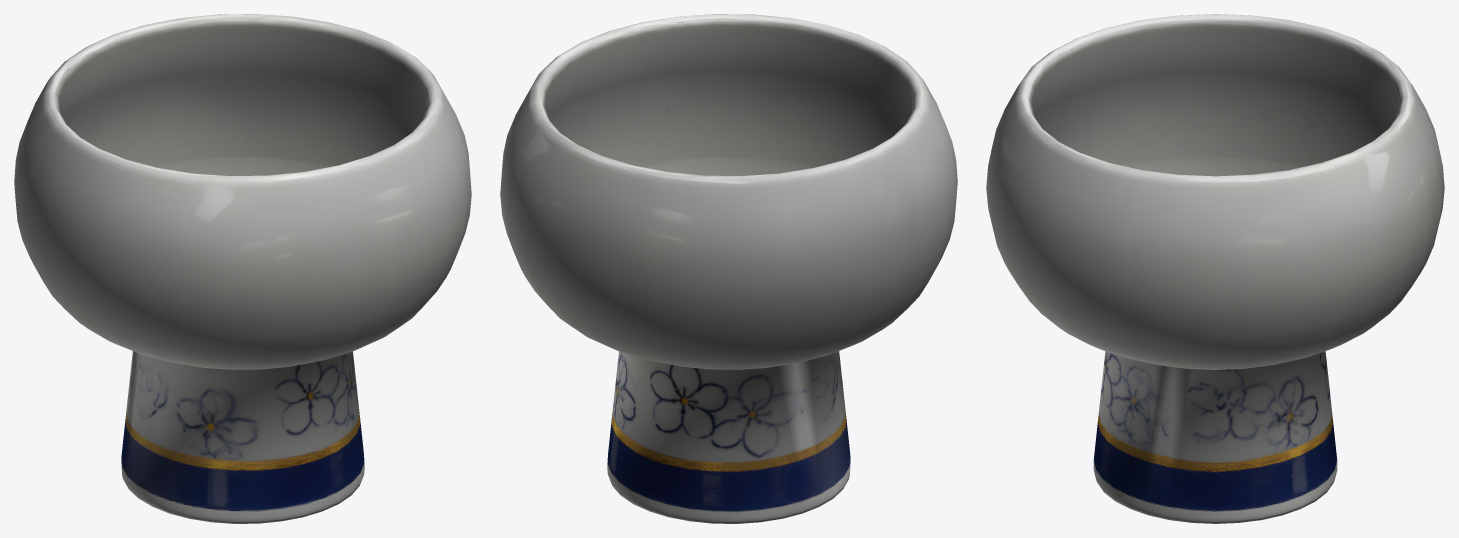
Rendered from glass+bowl+3d+model.fbx.
The picture shows the model from 3 angles, left to right: view 1: azimuth 30°, elevation 25°; view 2: azimuth 150°, elevation 25°; view 3: azimuth 270°, elevation 25°; orthographic projection.
Visible parts, largest first — view 1: tripo_node_950760f4-2be6-4086-8d57-d5d9af8951ee; view 2: tripo_node_950760f4-2be6-4086-8d57-d5d9af8951ee; view 3: tripo_node_950760f4-2be6-4086-8d57-d5d9af8951ee.
Boxes of the visible parts, x1,y1,x2,y2 form: tripo_node_950760f4-2be6-4086-8d57-d5d9af8951ee: (14,14,471,523); tripo_node_950760f4-2be6-4086-8d57-d5d9af8951ee: (500,14,957,523); tripo_node_950760f4-2be6-4086-8d57-d5d9af8951ee: (986,14,1444,523).
Size of the model in its own units: 0.9995 by 0.9087 by 0.9995.
Materials: 1 (1 with a texture image).
